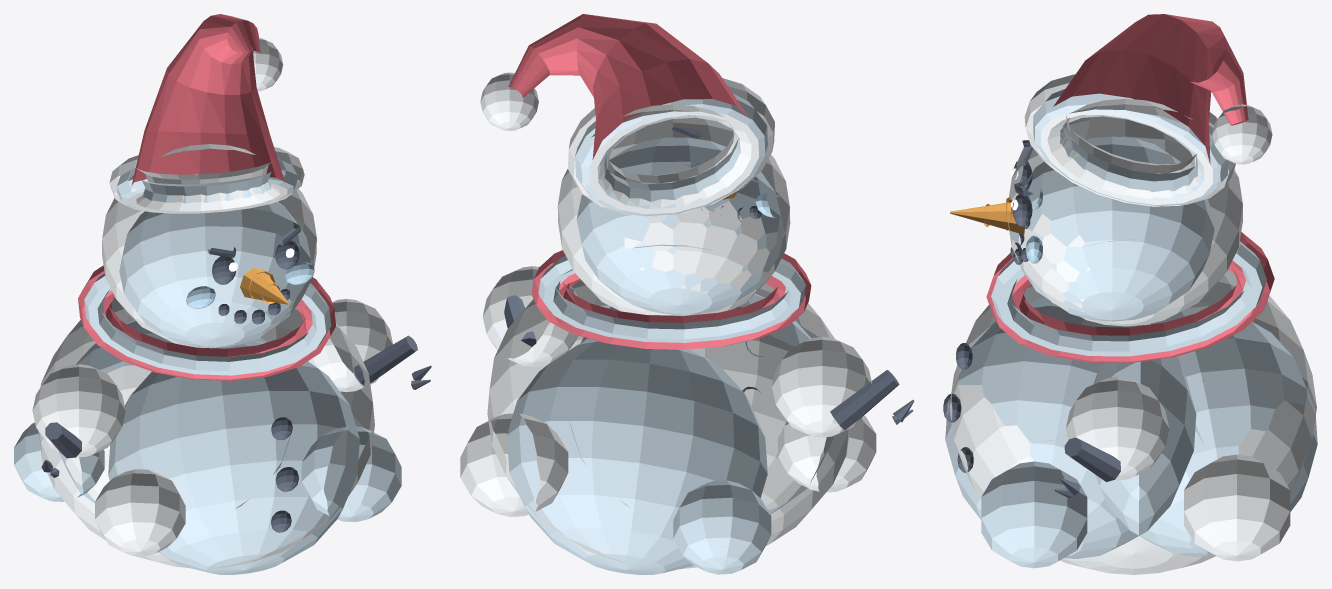
File: bola_de_nieve.glb
The picture shows the model from 3 angles, left to right: view 1: azimuth 30°, elevation 25°; view 2: azimuth 150°, elevation 25°; view 3: azimuth 270°, elevation 25°; orthographic projection. The views are drawn at different scales.
Visible parts, largest first — view 1: BolaDeNieve; view 2: BolaDeNieve; view 3: BolaDeNieve.
Part boxes in pixels (box(x1,y1,x2,y2)): BolaDeNieve: box(14, 14, 431, 574); BolaDeNieve: box(460, 14, 914, 574); BolaDeNieve: box(943, 14, 1317, 574).
Size of the model in its own units: 0.954 by 1.19 by 0.7203.
